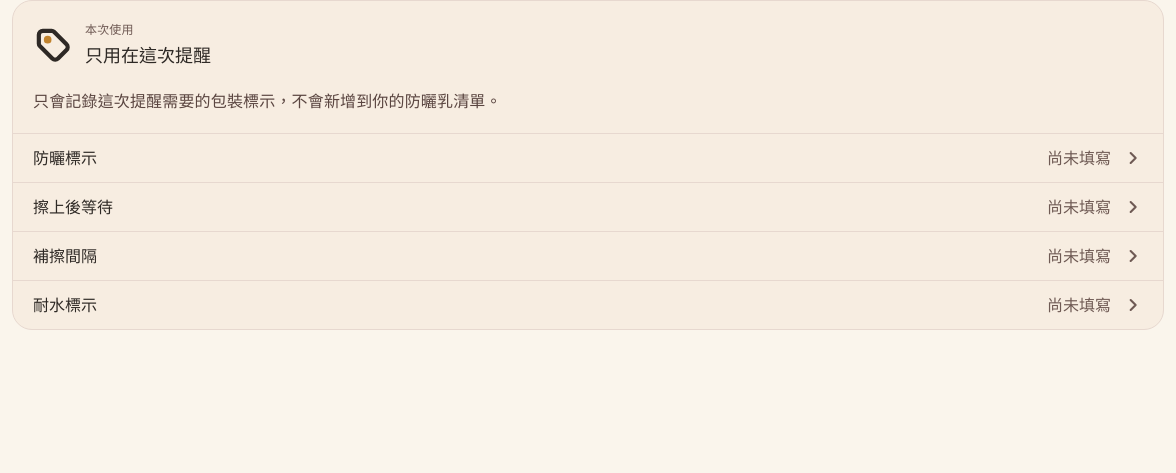
Scenario: 四題各佔一列 › 開第二題時第一題會收起來
Click the button with class "label-question__row" showing "防曬標示 尚未填寫". click: (65, 158)
box: [13, 134, 1163, 182]
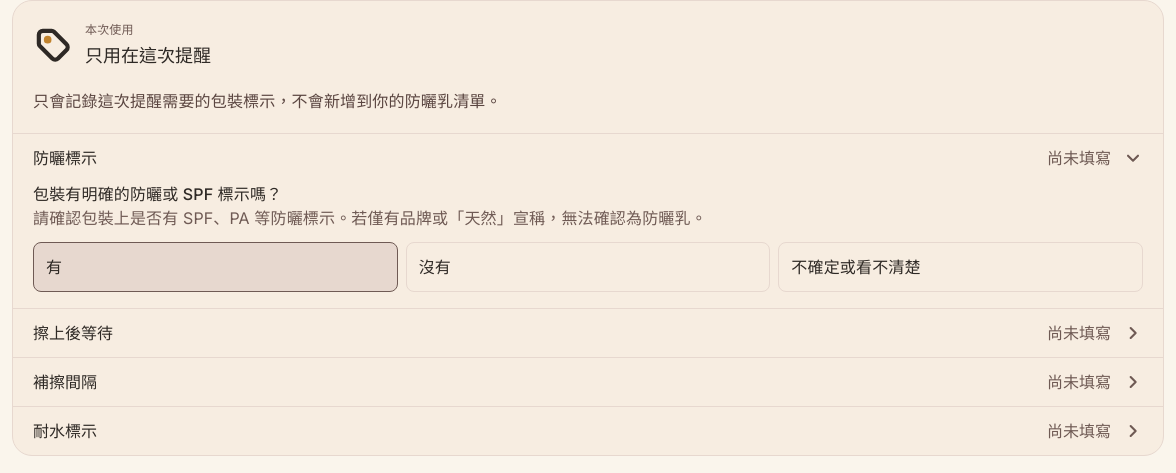
Check: the button with class "label-question__row" is expanded, box [13, 134, 1163, 182]
Click the button with class "label-question__row" showing "補擦間隔 尚未填寫". click: (65, 382)
box: [13, 358, 1163, 406]
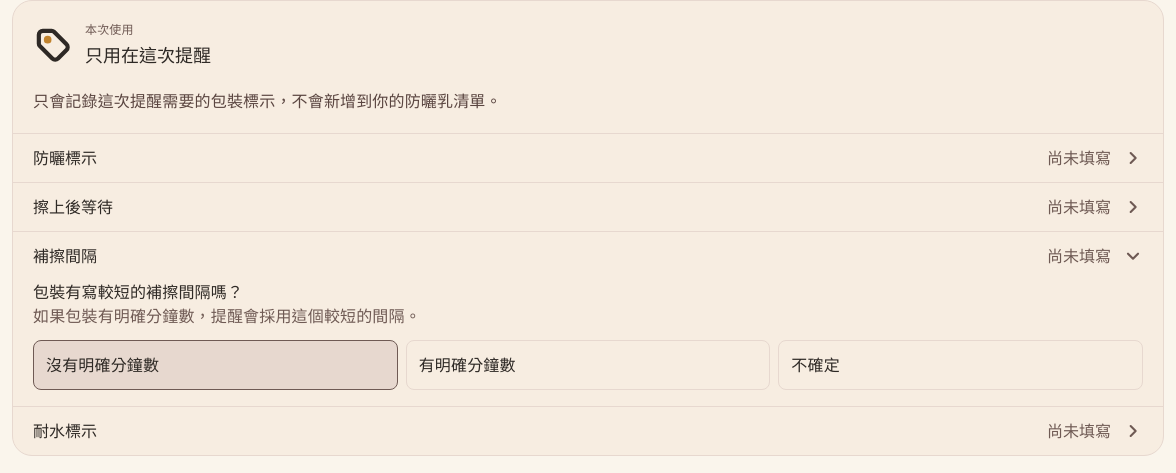
Check: the button with class "label-question__row" is collapsed, box [13, 134, 1163, 182]
